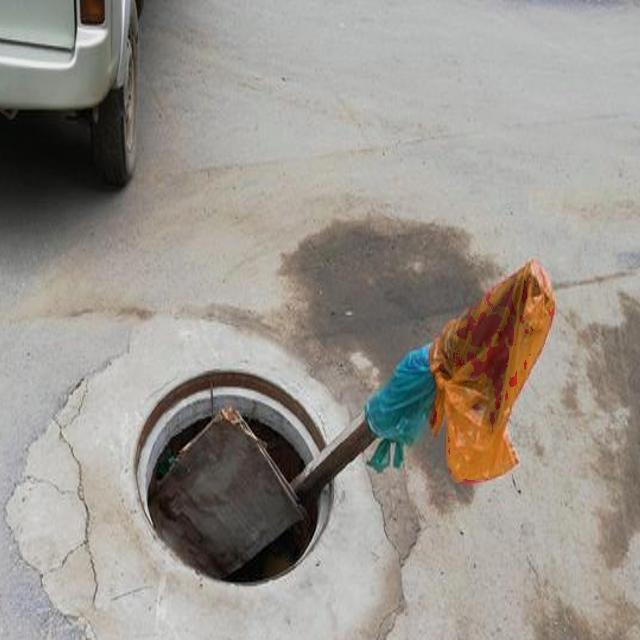lose: (98, 342, 354, 614)
